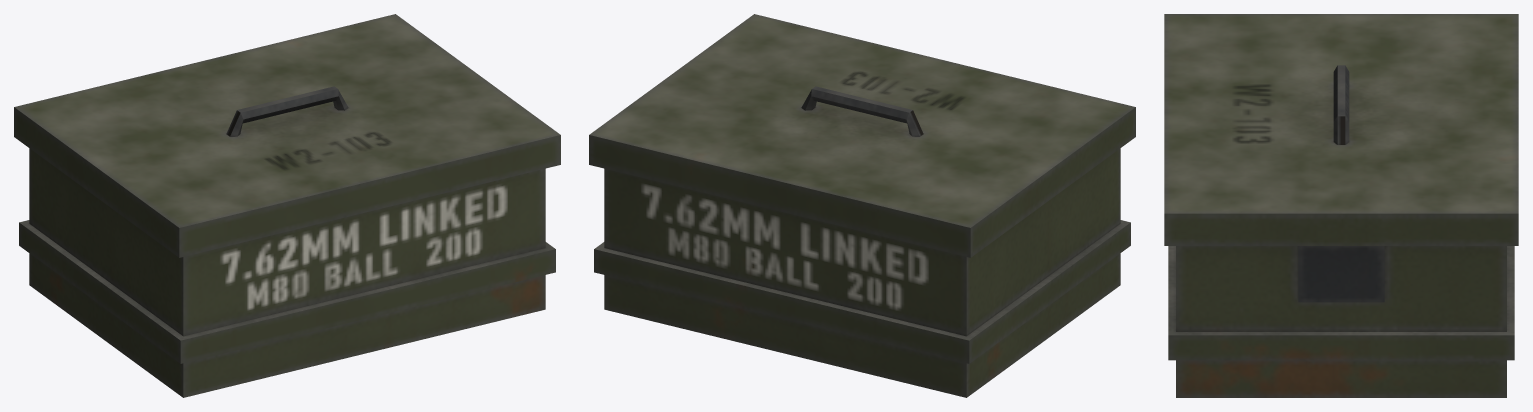
The model's file is W2_AmmoCan.fbx.
3 views of the same model, side by side, from view 1: azimuth 30°, elevation 25°; view 2: azimuth 150°, elevation 25°; view 3: azimuth 270°, elevation 25° (orthographic). The views are drawn at different scales.
Visible parts, largest first — view 1: W2_AmmoCan; view 2: W2_AmmoCan; view 3: W2_AmmoCan.
Boxes of the visible parts, bbox=[...] form: W2_AmmoCan: bbox=[14, 14, 560, 397]; W2_AmmoCan: bbox=[589, 14, 1135, 397]; W2_AmmoCan: bbox=[1164, 14, 1518, 397].
Size of the model in its own units: 240 by 119 by 180.
1 material, 1 textured.
